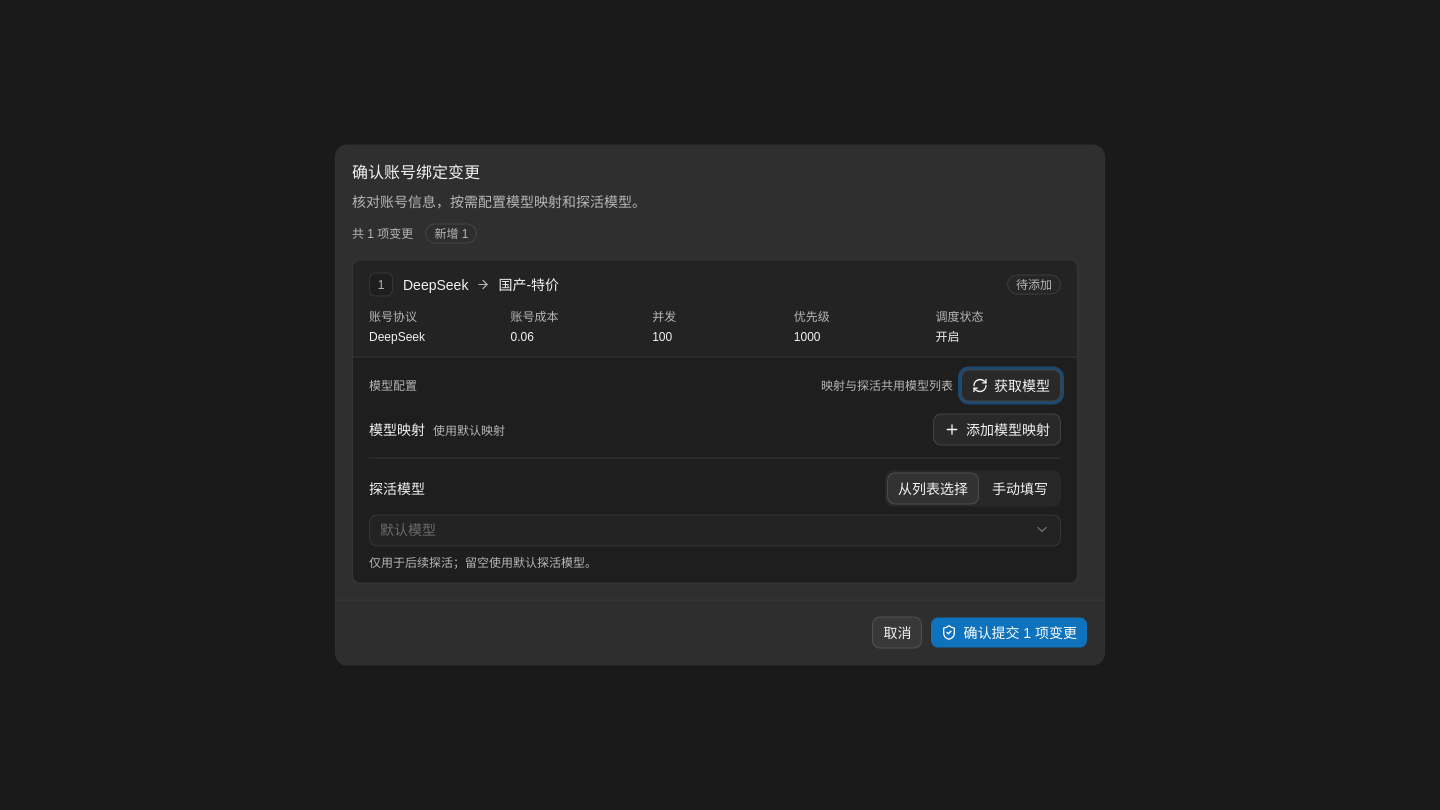
Test: 空映射显示简短默认说明，添加后显示编辑帮助，删除后恢复默认说明
Expected: the text "使用默认映射" is shown, [433, 422, 505, 438]
Expected: the text "选择上游模型后自动回填" is not shown
Click the button "添加模型映射".
click(997, 430)  # box [933, 414, 1061, 446]
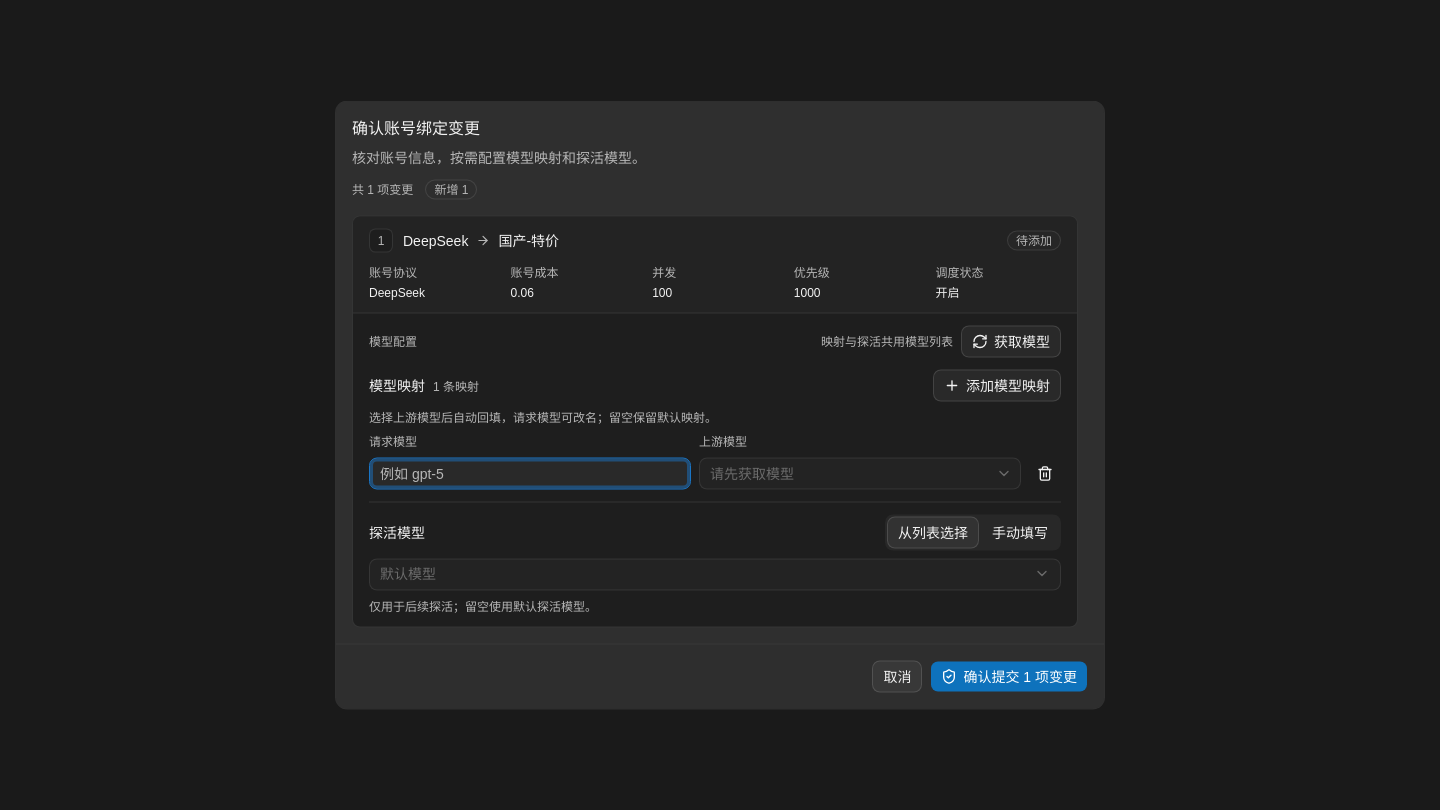
Expected: the text "选择上游模型后自动回填，请求模型可改名；留空保留默认映射。" is shown, [369, 410, 717, 424]
Expected: the text "使用默认映射" is gone
Click the button named "删除第 1 条模型映射".
click(1045, 474)  # box [1029, 458, 1061, 490]
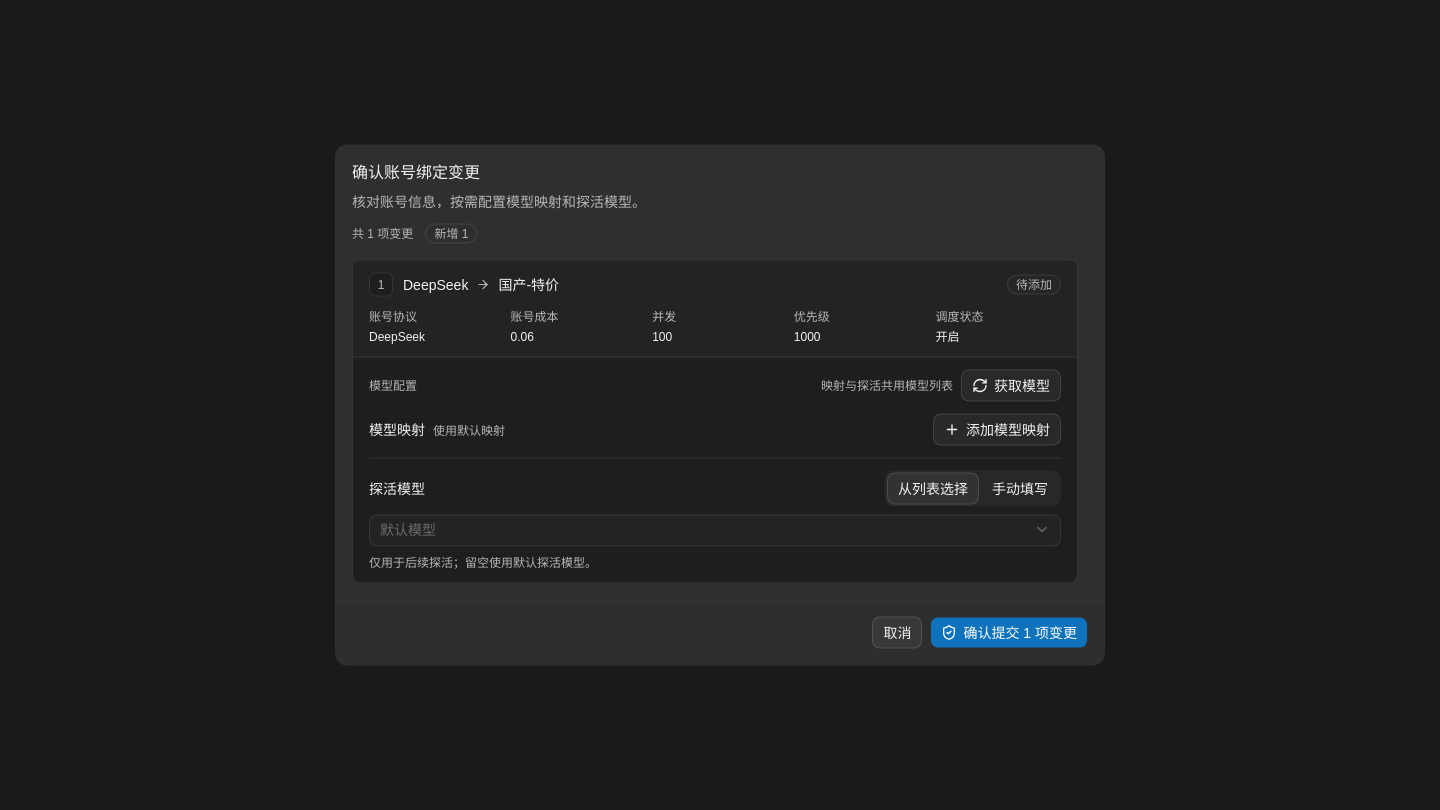
Expected: the text "使用默认映射" is shown, [433, 422, 505, 438]
